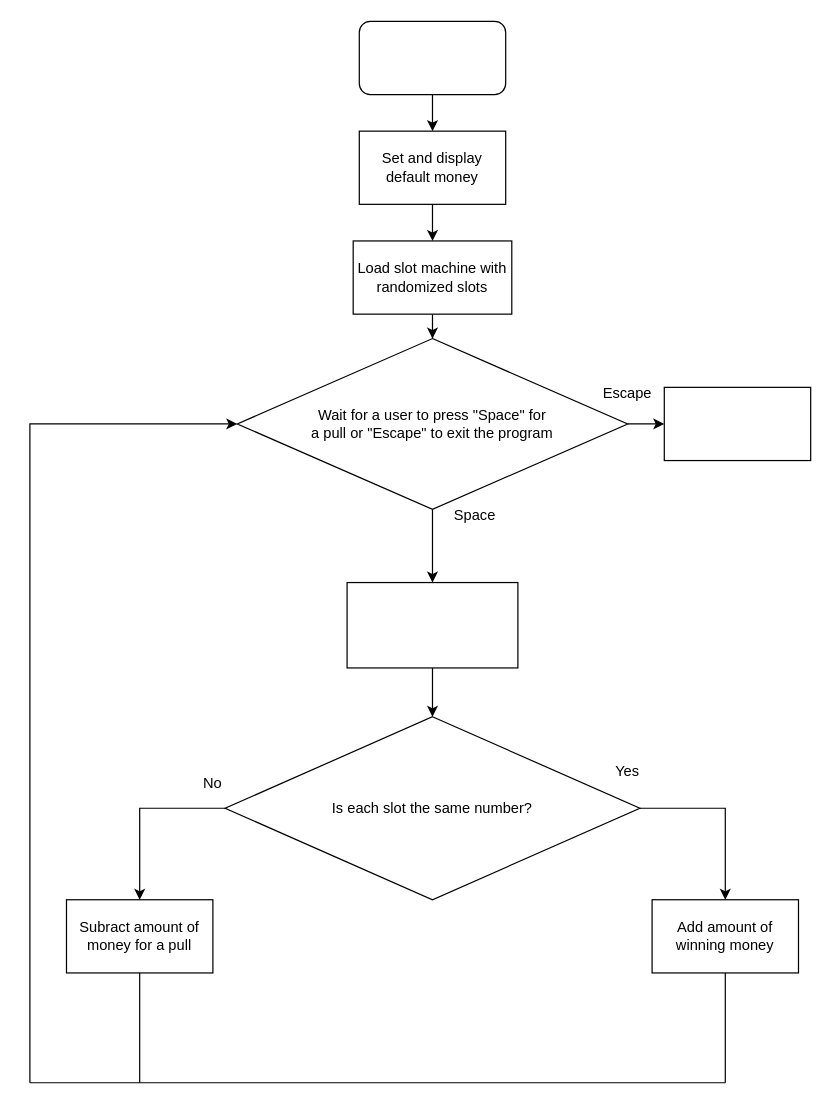
Some shapes in this 832 by 1114 pixel diagram are drawn without their labels. Here are the shapes that lost their labels. From the top down, the centre of each, then its label:
At pixel 432 57: "Start".
At pixel 737 423: "Exit the program".
At pixel 432 624: "Roll each slot for a random amount of time".
